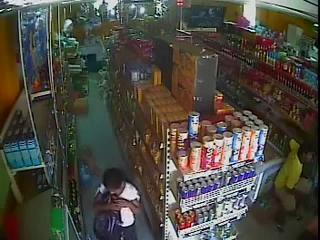Normal: (92, 168, 154, 240), (274, 138, 304, 192)
